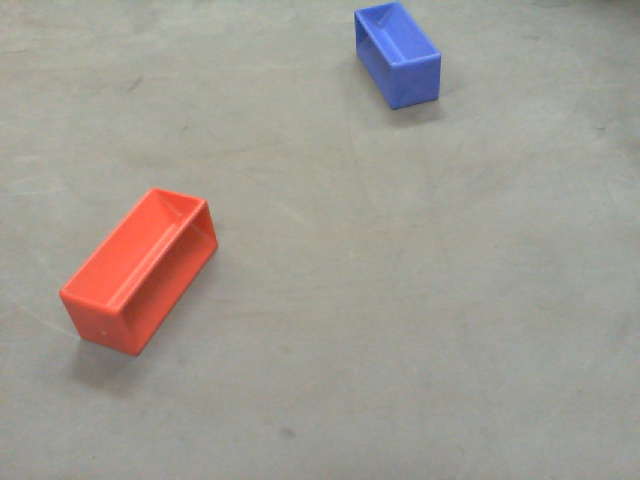BlueSample: (345, 1, 445, 111)
RedSample: (57, 185, 223, 359)
